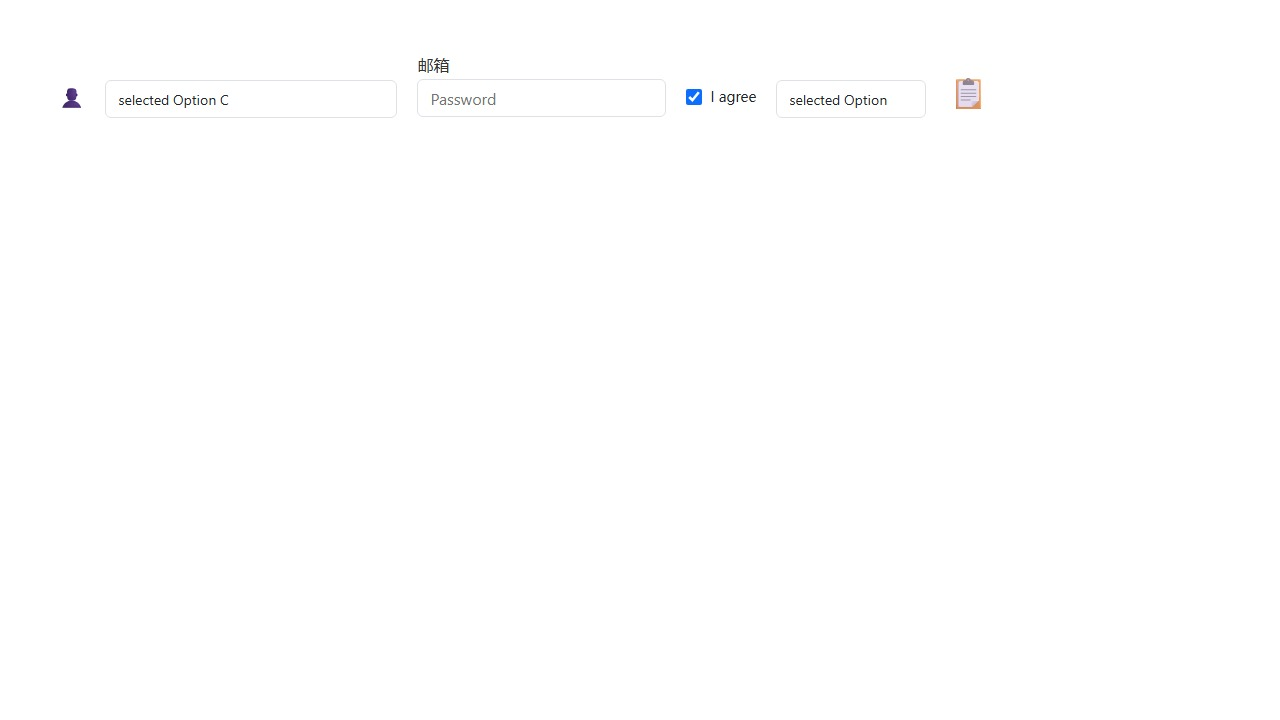checkbox: (686, 89, 702, 105)
icon: (946, 75, 990, 107), (710, 87, 756, 106), (58, 87, 85, 107)
input: (417, 79, 666, 117)
radio: (686, 87, 756, 106)
select: (105, 80, 397, 118), (776, 80, 926, 118)
